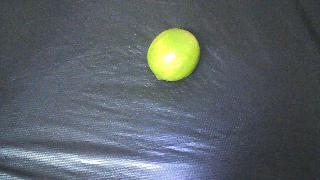LOCAL: (147, 28, 200, 81)
